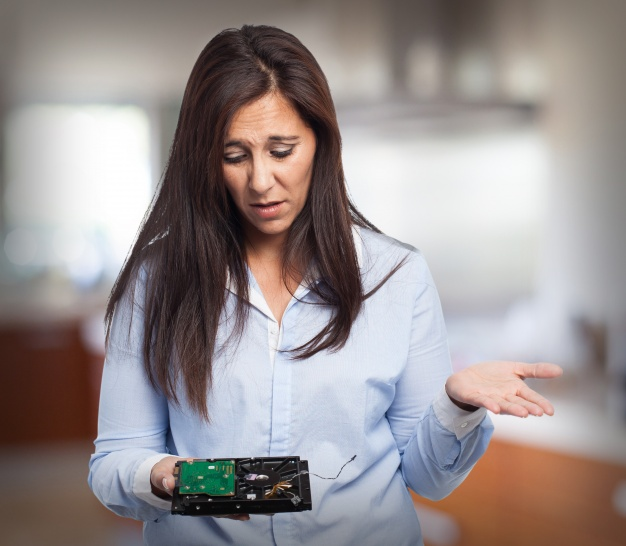confused: (217, 108, 317, 241)
